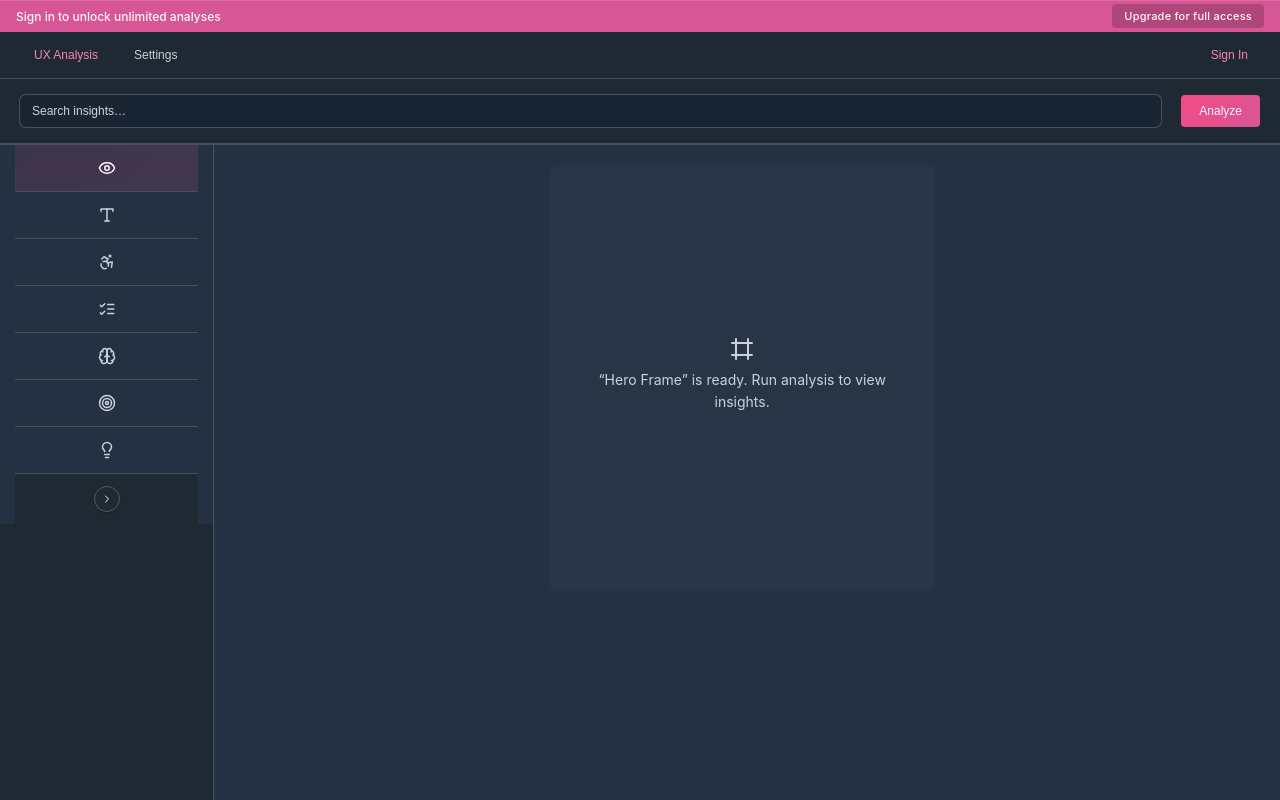
Test: App: progress overlay appears immediately › renders the progress skeleton immediately on the first run even with no cached content
The width and height of the screenshot is (1280, 800).
Click the button "Analyze" at (1221, 111), box [1181,95,1260,127]
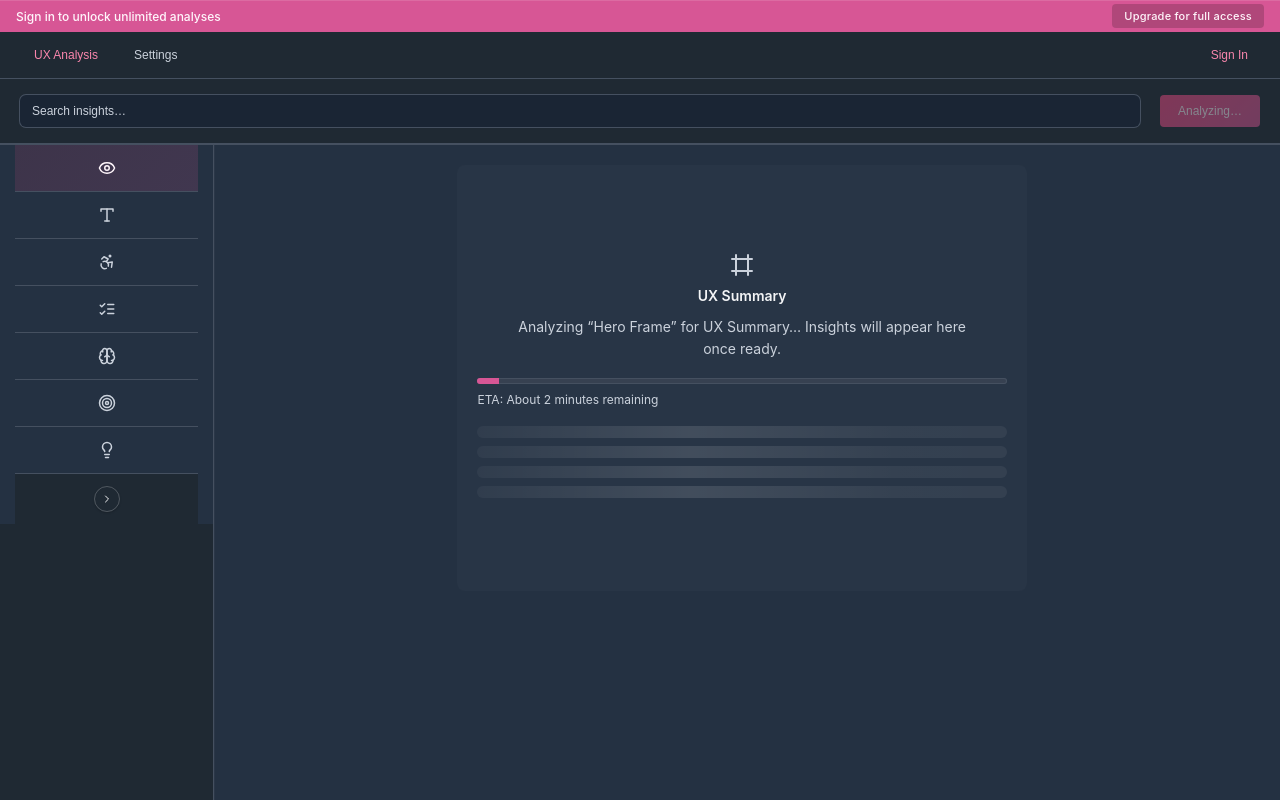
expect the element with class "global-progress" is shown: met, box [477,378,1007,410]
